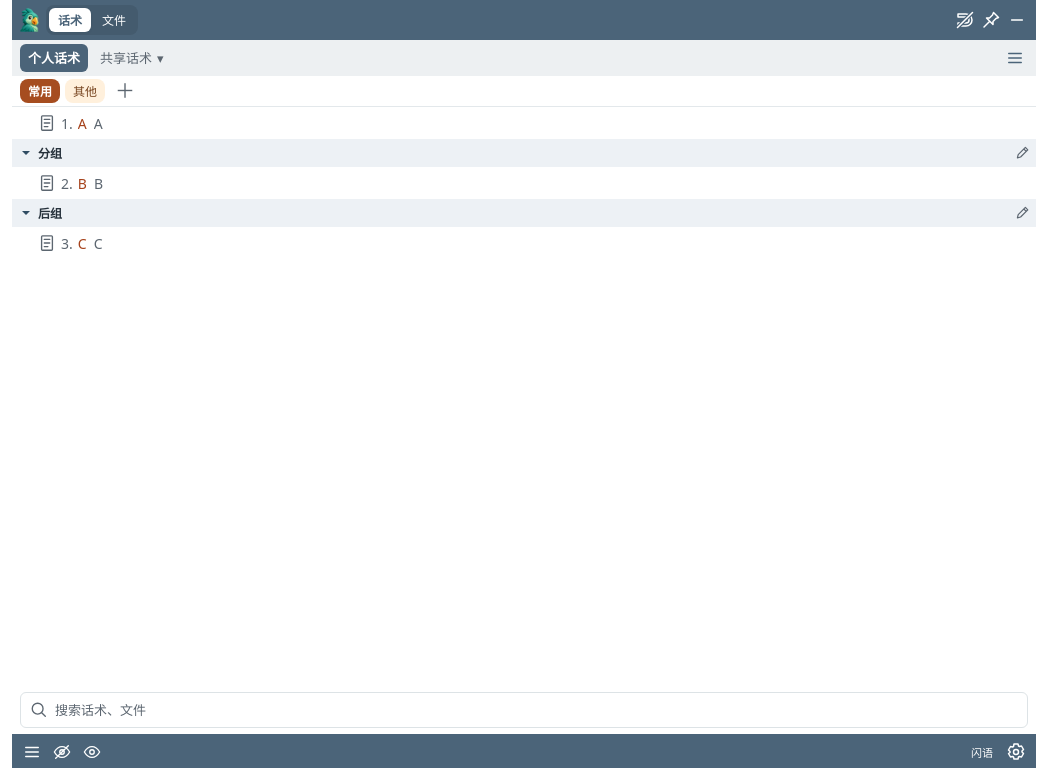
Test: 回执已保存但变更事件丢失时，来源窗口仍主动读取结果
Double-click the option "1. A A" at (70, 123), box [38,114,103,132]
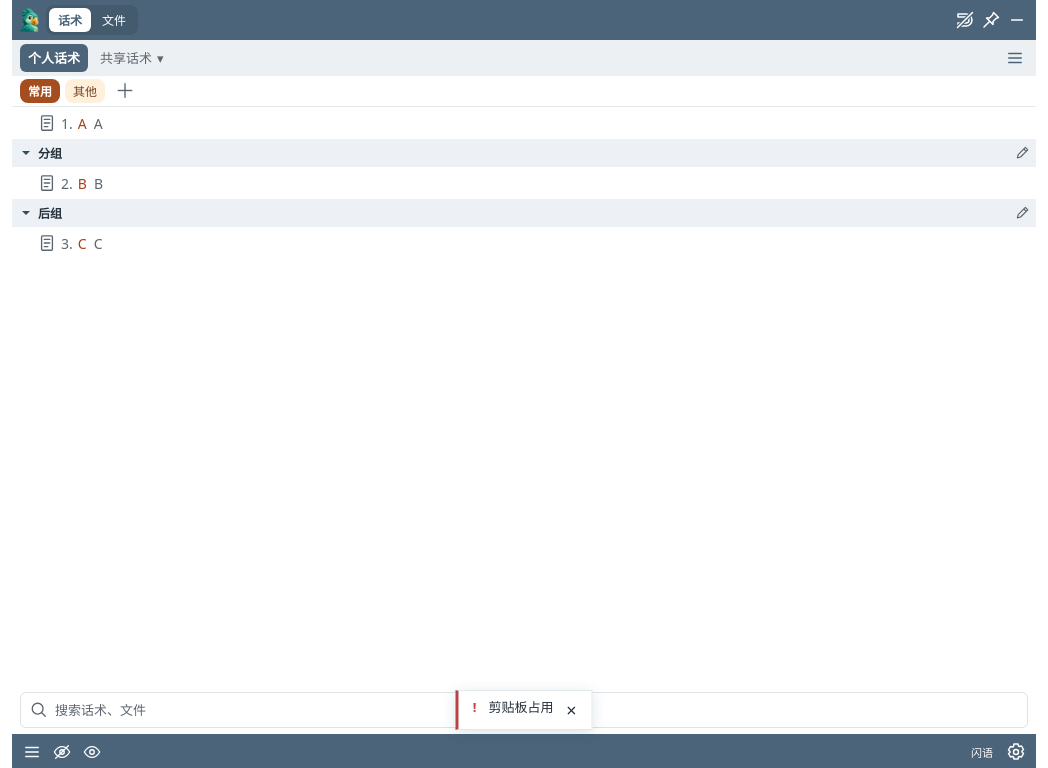
Expected: the message shows "剪贴板占用", [488,698,554,716]
